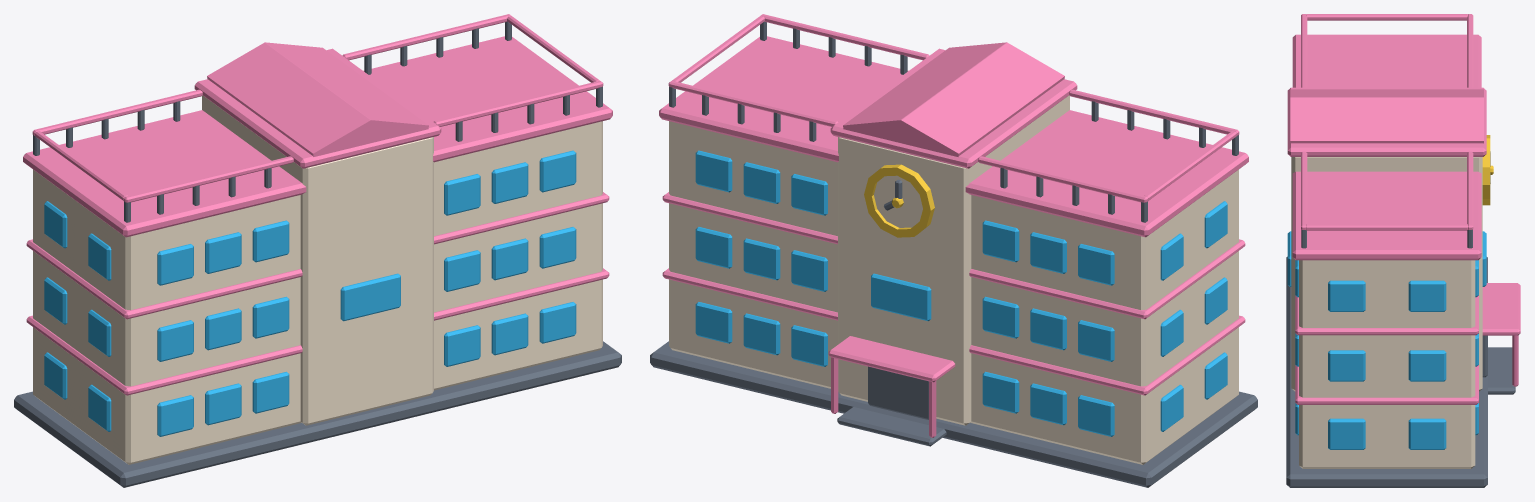
File: Prop_sakura_schoolyard_SchoolBuilding.glb
3 renders of one model, left to right at view 1: azimuth 30°, elevation 25°; view 2: azimuth 150°, elevation 25°; view 3: azimuth 270°, elevation 25°, orthographic. The views are drawn at different scales.
Parts seen in each view (by area): view 1: Wall_FFF1DC, Sakura_FF8FC0, Window_38BDF8, StoneDark_6B7686; view 2: Wall_FFF1DC, Sakura_FF8FC0, Window_38BDF8, StoneDark_6B7686, Yellow_FFD23F; view 3: Sakura_FF8FC0, Wall_FFF1DC, Window_38BDF8, StoneDark_6B7686, Yellow_FFD23F.
Boxes of the visible parts, left/top/right/bottom form: Wall_FFF1DC: left=33, top=95, right=602, bottom=464; Sakura_FF8FC0: left=23, top=14, right=612, bottom=395; Window_38BDF8: left=44, top=150, right=576, bottom=436; StoneDark_6B7686: left=14, top=21, right=621, bottom=487; Wall_FFF1DC: left=669, top=95, right=1238, bottom=464; Sakura_FF8FC0: left=659, top=14, right=1248, bottom=437; Window_38BDF8: left=695, top=150, right=1227, bottom=436; StoneDark_6B7686: left=650, top=21, right=1257, bottom=487; Yellow_FFD23F: left=864, top=164, right=934, bottom=237; Sakura_FF8FC0: left=1287, top=14, right=1520, bottom=404; Wall_FFF1DC: left=1291, top=157, right=1482, bottom=468; Window_38BDF8: left=1287, top=231, right=1486, bottom=449; StoneDark_6B7686: left=1286, top=151, right=1515, bottom=487; Yellow_FFD23F: left=1482, top=135, right=1493, bottom=205.
Bounding box in the file's own units: 42 × 24.59 × 18.6.
